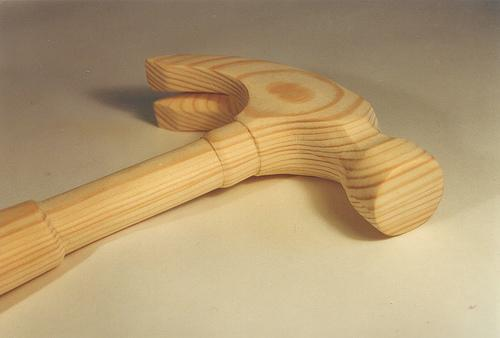hammer: (0, 51, 445, 295)
